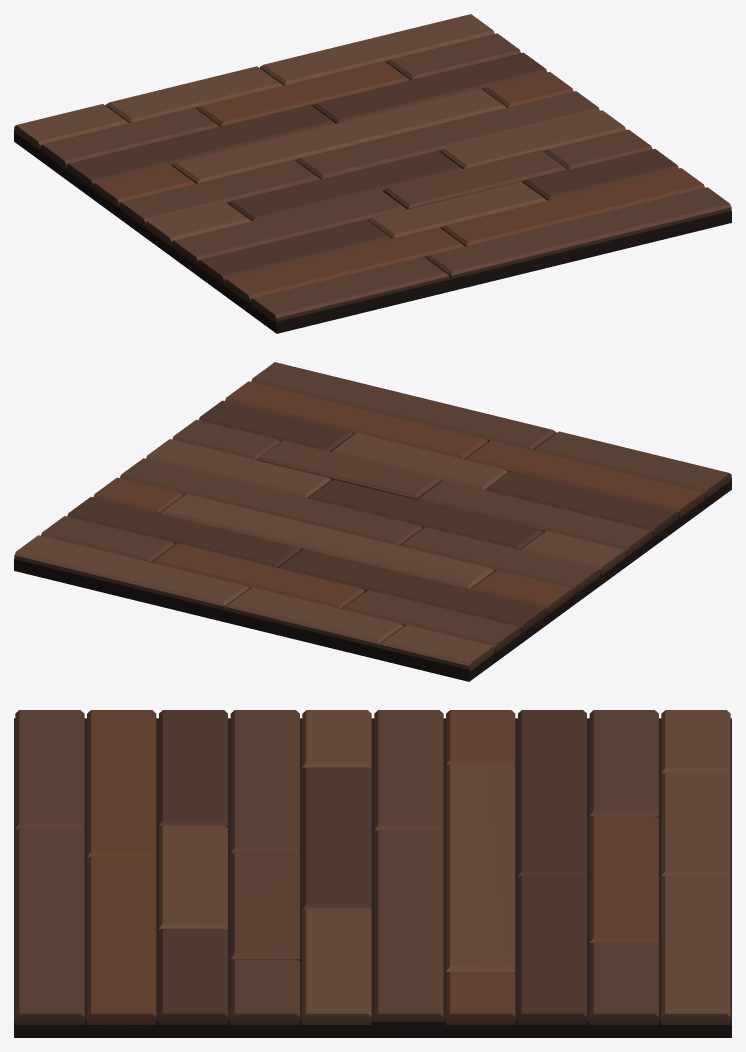
The model's file is floor_planks_dark_large_D.glb.
The picture shows the model from 3 angles, top to bottom: view 1: azimuth 30°, elevation 25°; view 2: azimuth 150°, elevation 25°; view 3: azimuth 270°, elevation 25°; orthographic projection. The views are drawn at different scales.
Parts seen in each view (by area): view 1: Item; view 2: Item; view 3: Item.
Boxes of the visible parts, left/top/right/bottom form: Item: left=14, top=14, right=731, bottom=333; Item: left=14, top=362, right=731, bottom=681; Item: left=14, top=710, right=731, bottom=1037.
Size of the model in its own units: 4 by 0.1578 by 4.
1 material, 1 textured.
